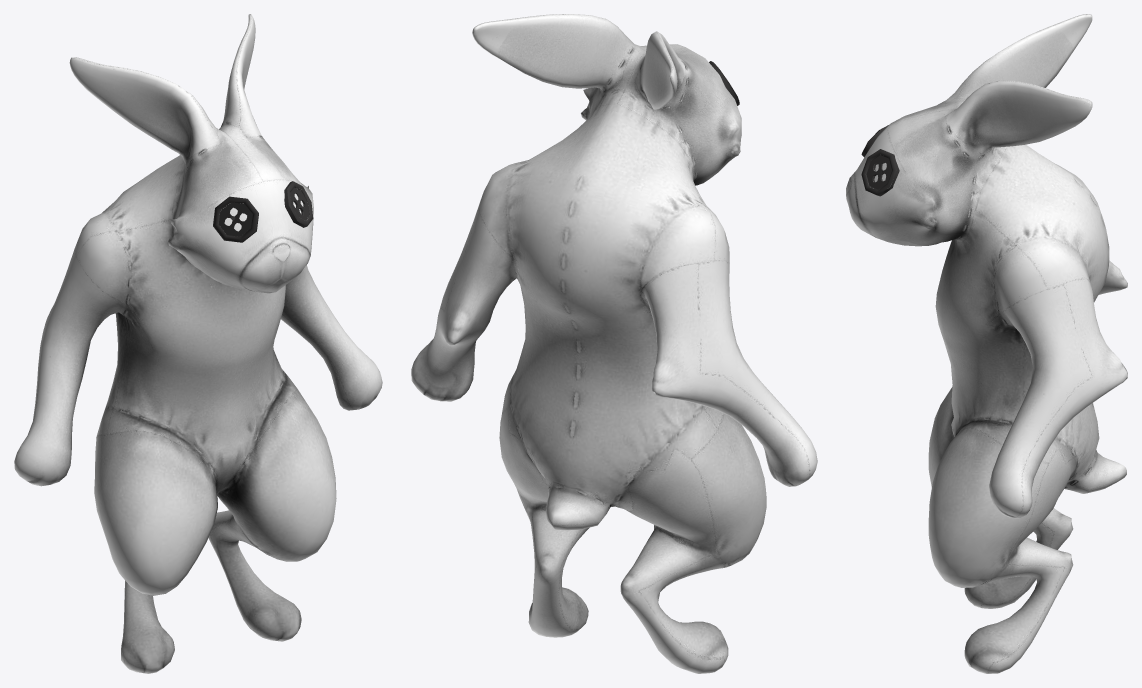
The model's file is Experimental_Rabbit_Stuffed.fbx.
3 renders of one model, left to right at view 1: azimuth 30°, elevation 25°; view 2: azimuth 150°, elevation 25°; view 3: azimuth 270°, elevation 25°, orthographic. The views are drawn at different scales.
Parts seen in each view (by area): view 1: Experimental_Bunny_Stuffed1; view 2: Experimental_Bunny_Stuffed1; view 3: Experimental_Bunny_Stuffed1.
Boxes of the visible parts, x1,y1,x2,y2 form: Experimental_Bunny_Stuffed1: [14, 14, 382, 673]; Experimental_Bunny_Stuffed1: [411, 14, 817, 673]; Experimental_Bunny_Stuffed1: [846, 14, 1127, 673].
Size of the model in its own units: 3.94 by 6.04 by 2.66.
Materials: 2 (2 with a texture image).
